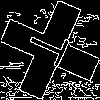T: (25, 25, 79, 72)
